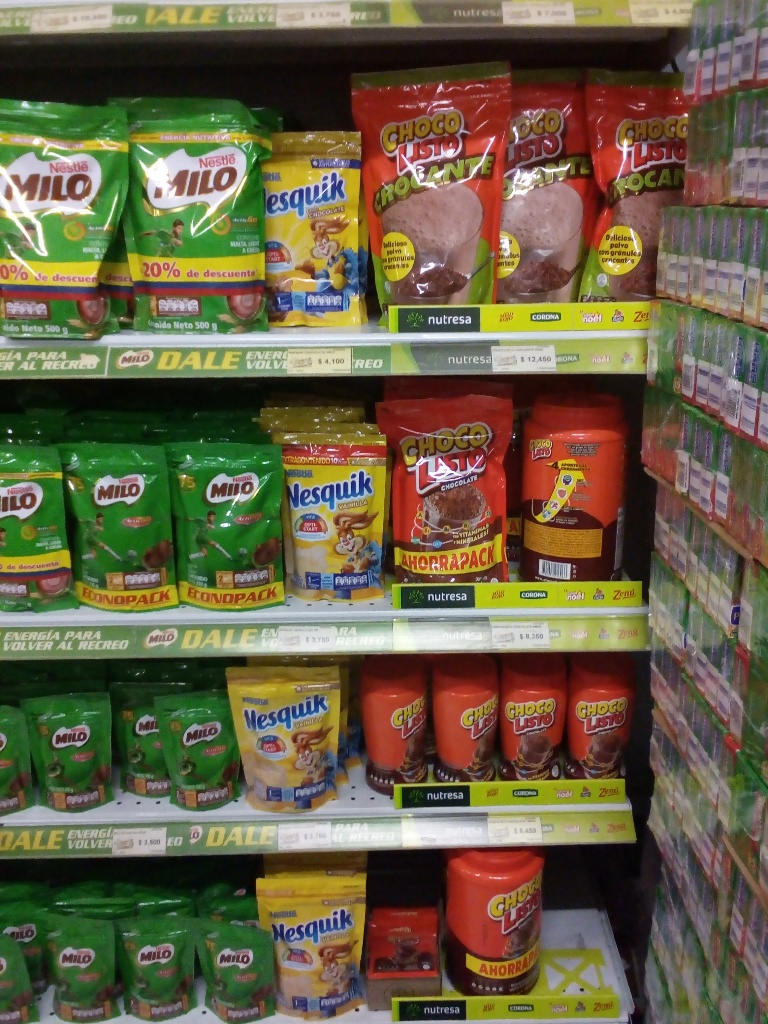COL0170102DYP50000: (353, 52, 504, 302)
COL0170103DYP44000: (379, 381, 513, 580)
COL0170103SOB02000: (373, 905, 442, 993)
COL0170103TRR00100: (523, 384, 629, 584)
COL0170203DYP10000: (27, 691, 118, 814)
COL0170203DYP50000: (0, 88, 128, 337)
COL0170306DYP20000: (227, 662, 359, 813)
